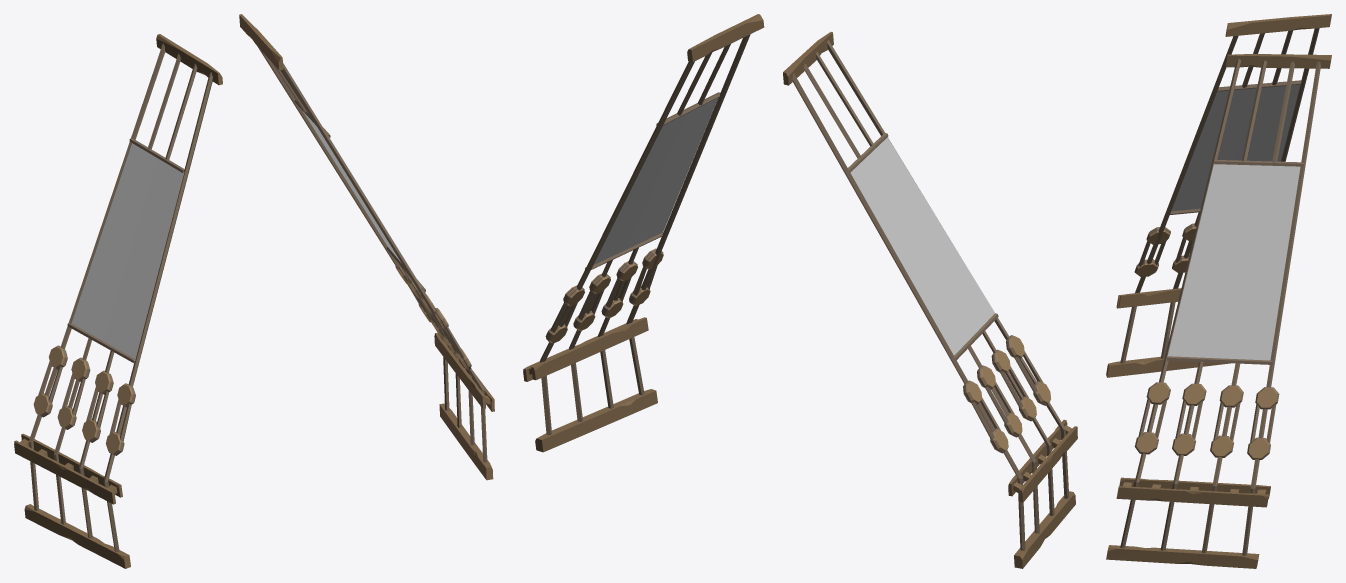
File: SM_Veh_Ship_L_01_Ratlines_Front_03.fbx
3 renders of one model, left to right at view 1: azimuth 30°, elevation 25°; view 2: azimuth 150°, elevation 25°; view 3: azimuth 270°, elevation 25°, orthographic. The views are drawn at different scales.
Parts seen in each view (by area): view 1: SM_Veh_Ship_L_01_Ratlines_Front_03; view 2: SM_Veh_Ship_L_01_Ratlines_Front_03; view 3: SM_Veh_Ship_L_01_Ratlines_Front_03.
Boxes of the visible parts, x1,y1,x2,y2 form: SM_Veh_Ship_L_01_Ratlines_Front_03: [14, 14, 494, 568]; SM_Veh_Ship_L_01_Ratlines_Front_03: [523, 14, 1077, 568]; SM_Veh_Ship_L_01_Ratlines_Front_03: [1106, 14, 1331, 568].
Size of the model in its own units: 990 by 917 by 434.
